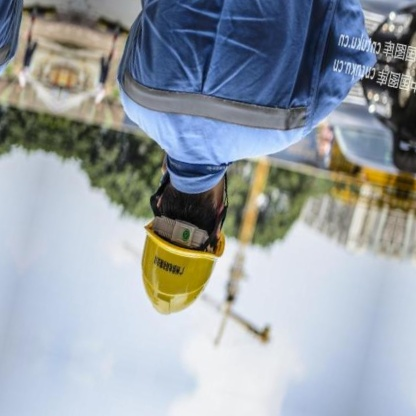yellow: (121, 209, 234, 331)
